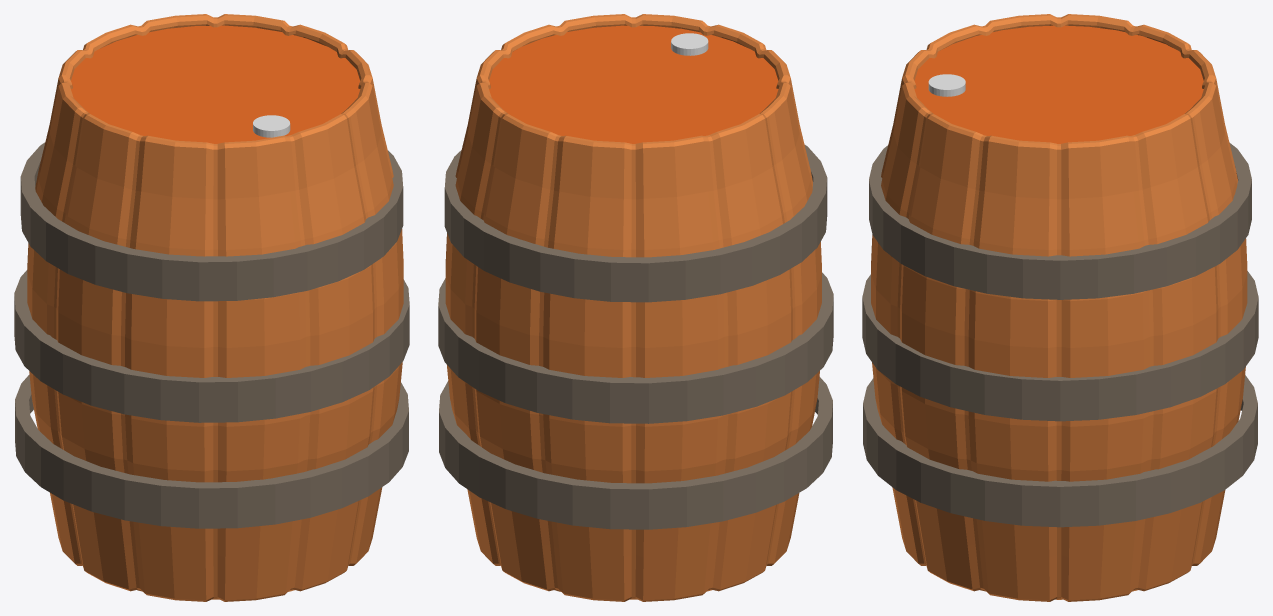
File: tong.fbx
3 views of the same model, side by side, from view 1: azimuth 30°, elevation 25°; view 2: azimuth 150°, elevation 25°; view 3: azimuth 270°, elevation 25° (orthographic).
Visible parts, largest first — view 1: Cylinder, Cylinder.002, Cylinder.006, Cylinder.004, Cylinder.005, Cylinder.003; view 2: Cylinder, Cylinder.002, Cylinder.006, Cylinder.004, Cylinder.005, Cylinder.003; view 3: Cylinder, Cylinder.002, Cylinder.006, Cylinder.005, Cylinder.004, Cylinder.003.
Part boxes in pixels (x1=…): Cylinder: x1=27, y1=14, x2=403, y2=601; Cylinder.002: x1=71, y1=25, x2=360, y2=143; Cylinder.006: x1=15, y1=374, x2=408, y2=528; Cylinder.004: x1=14, y1=270, x2=409, y2=422; Cylinder.005: x1=20, y1=142, x2=403, y2=301; Cylinder.003: x1=253, y1=115, x2=290, y2=137; Cylinder: x1=445, y1=14, x2=821, y2=601; Cylinder.002: x1=489, y1=25, x2=778, y2=143; Cylinder.006: x1=439, y1=377, x2=832, y2=529; Cylinder.004: x1=438, y1=272, x2=833, y2=423; Cylinder.005: x1=444, y1=145, x2=827, y2=302; Cylinder.003: x1=671, y1=33, x2=708, y2=55; Cylinder: x1=871, y1=14, x2=1247, y2=601; Cylinder.002: x1=914, y1=25, x2=1203, y2=143; Cylinder.006: x1=863, y1=375, x2=1257, y2=527; Cylinder.005: x1=869, y1=142, x2=1251, y2=299; Cylinder.004: x1=862, y1=271, x2=1258, y2=421; Cylinder.003: x1=928, y1=74, x2=965, y2=96.
Bounding box in the file's own units: 74.31 × 94.74 × 74.31.
